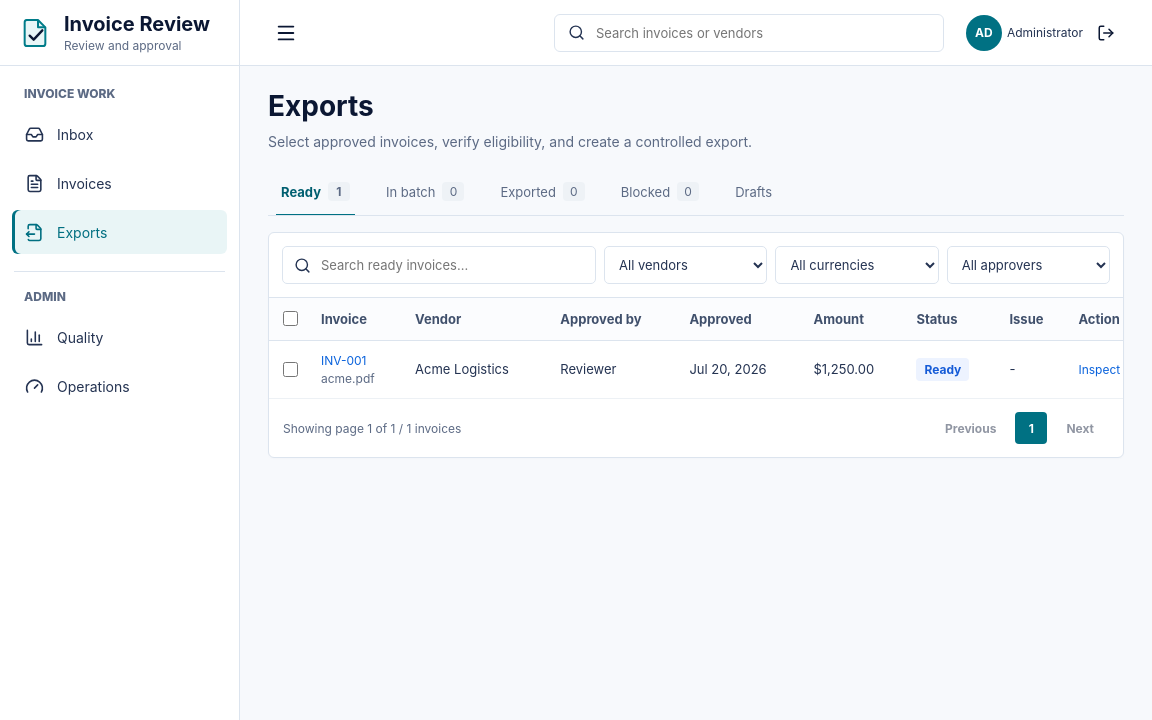
exports workspace › builds a server-validated batch and exposes only configured capabilities
Expected: the heading "Exports" is shown, [268, 89, 374, 123]
Click the checkbox named "Select INV-001" at (290, 369), box [283, 362, 298, 377]
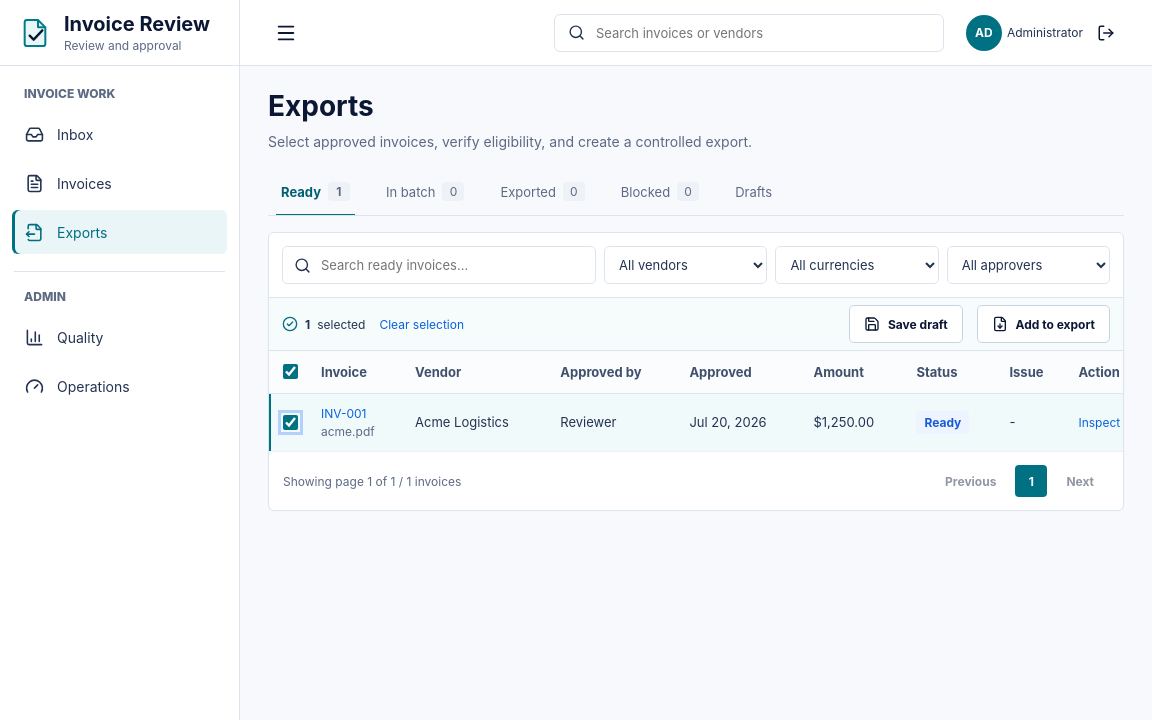
Expected: the dialog "Export batch" is not shown
Click the button "Add to export" at (1043, 324), box [976, 305, 1110, 343]
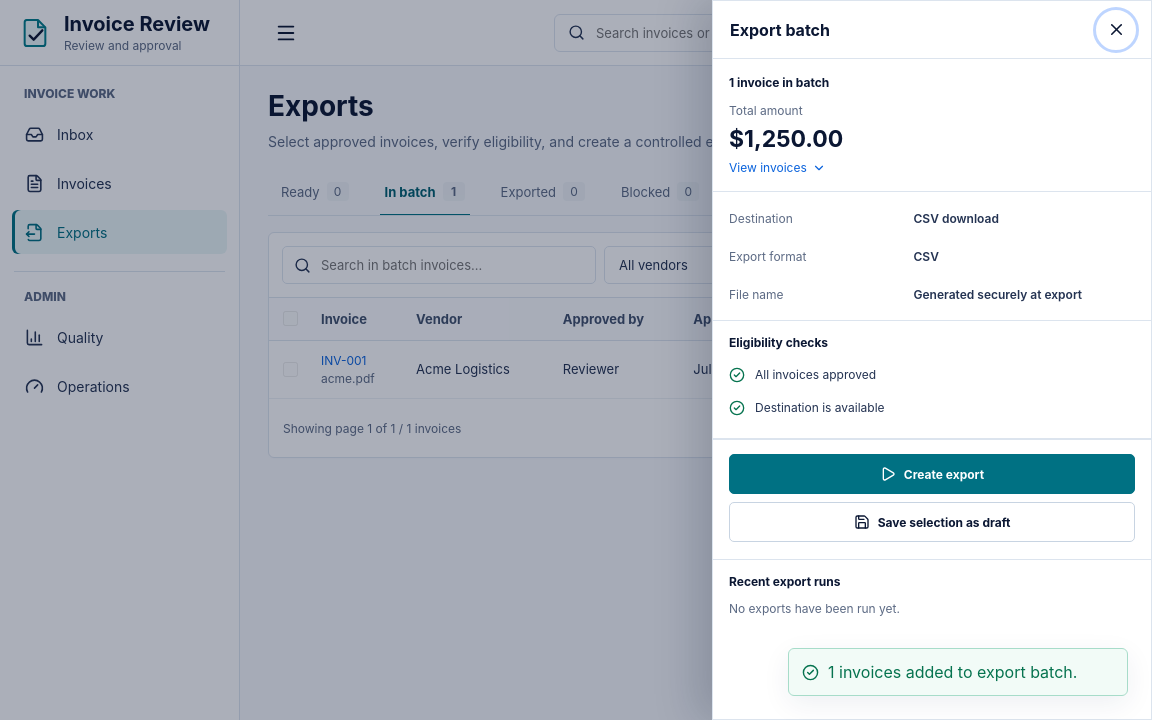
Now the text "1 invoices added to export batch." is shown, box [788, 648, 1128, 696]
Now the text "CSV download" is shown, box [914, 210, 999, 226]
Now the text "All invoices approved" is shown, box [755, 367, 876, 382]
